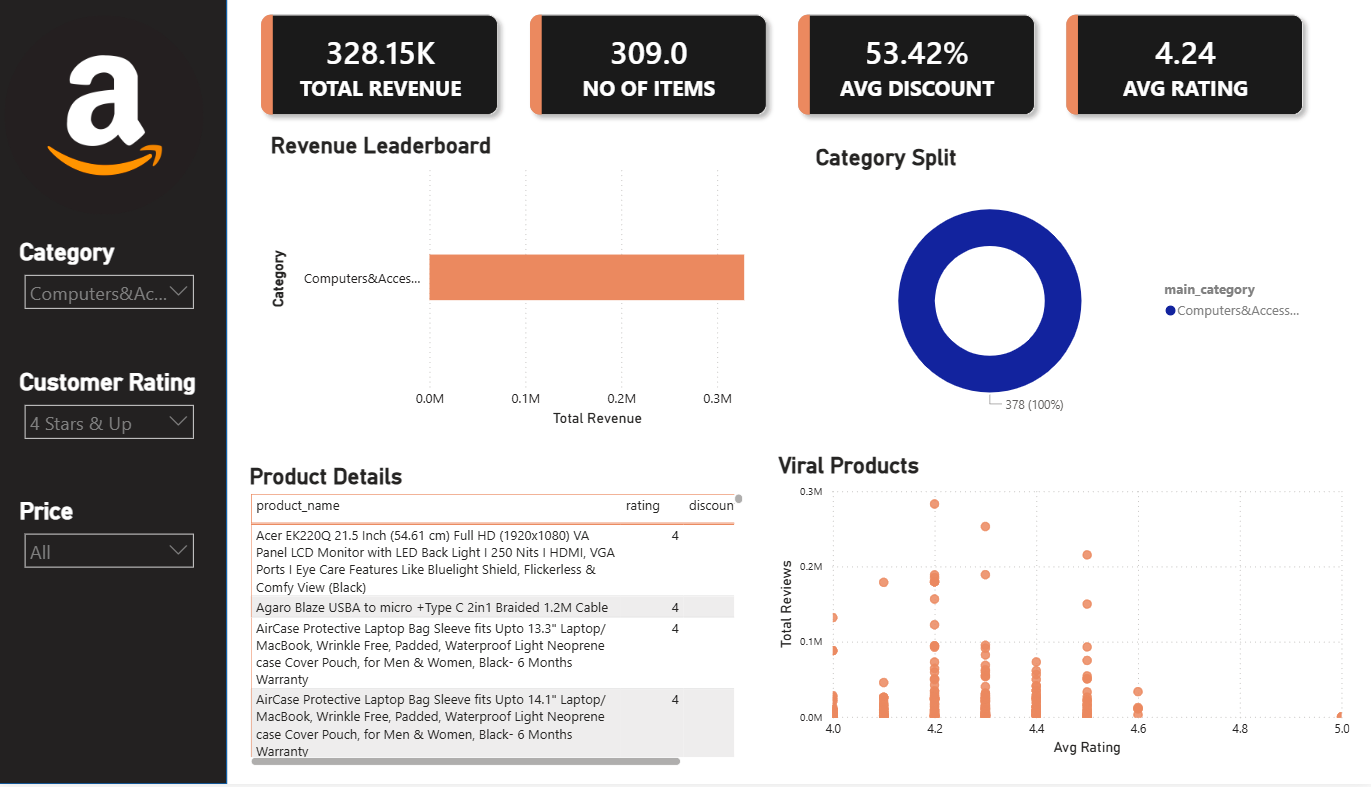

The dashboard page shown, as its layout file describes it:
{"tool":"powerbi","page":{"name":"Page 1","canvas":[1400,800],"ordinal":0},"visuals":[{"type":"shape","box":[0,0,234.1,800],"z":0},{"type":"image","box":[7.5,18,202.6,202.6],"z":1000},{"type":"slicer","title":"Category","fields":{"Values":["amazon_cleaned.main_category"]},"box":[18,244.6,192.1,91.6],"z":2000},{"type":"slicer","title":"Customer Rating","fields":{"Values":["amazon_cleaned.rating filter"]},"box":[18,355.7,192.1,85.5],"z":3000},{"type":"cardVisual","fields":{"Data":["amazon_cleaned.Total Revenue","Count(amazon_cleaned.product_id)","amazon_cleaned.Avg Discount %","amazon_cleaned.Avg Rating"]},"box":[252.1,0,1094.1,136.6],"z":4000},{"type":"clusteredBarChart","title":"Revenue Leaderboard","fields":{"Category":["amazon_cleaned.main_category"],"Y":["amazon_cleaned.Total Revenue"]},"box":[273.2,136.6,528.3,304.7],"z":5000},{"type":"donutChart","title":"Category Split ","fields":{"Category":["amazon_cleaned.main_category"],"Y":["CountNonNull(amazon_cleaned.product_id)"]},"box":[828.5,148.6,517.8,292.7],"z":6000},{"type":"tableEx","title":"Product Details","fields":{"Values":["amazon_cleaned.product_name","amazon_cleaned.rating","amazon_cleaned.discounted_price"]},"box":[252.3,473.7,512.1,312.9],"z":7000},{"type":"scatterChart","title":"Viral Products","fields":{"Category":["amazon_cleaned.product_name"],"Y":["amazon_cleaned.Total Reviews"],"X":["amazon_cleaned.Avg Rating"]},"box":[789.5,462.3,591.3,313.7],"z":8000},{"type":"slicer","title":"Price","fields":{"Values":["amazon_cleaned.discounted_price group"]},"box":[18,474.3,192.1,85.5],"z":9000}]}

Visuals, with their boxes in screenshot pixels (x1, y1, x2, y2), scaled from the page's 1400x800 canvas onto the 1371x787 screenshot:
shape: 0 0 229 786
image: 7 18 206 217
"Category" slicer: 18 241 206 331
"Customer Rating" slicer: 18 350 206 434
cardVisual - amazon_cleaned.Total Revenue x Count(amazon_cleaned.product_id): 247 0 1318 134
"Revenue Leaderboard" clusteredBarChart: 268 134 785 434
"Category Split " donutChart: 811 146 1318 434
"Product Details" tableEx: 247 466 749 774
"Viral Products" scatterChart: 773 455 1352 763
"Price" slicer: 18 467 206 551
